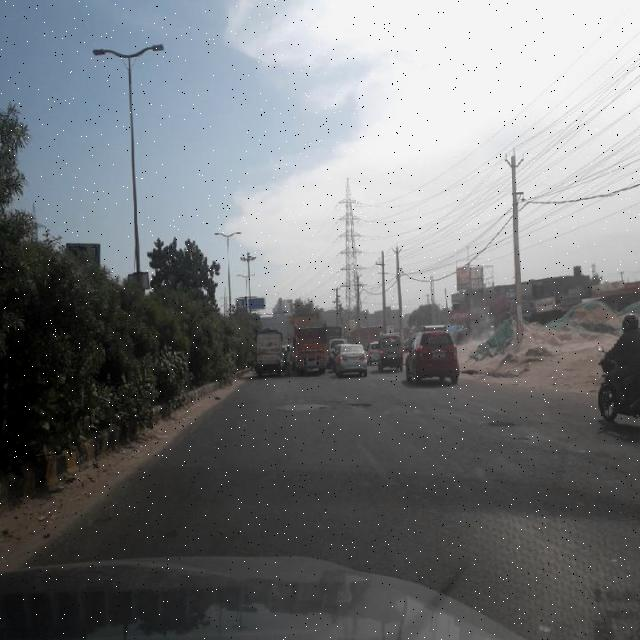D20: (82, 417, 578, 546)
D40: (344, 391, 376, 410)
D44: (356, 429, 402, 490)
